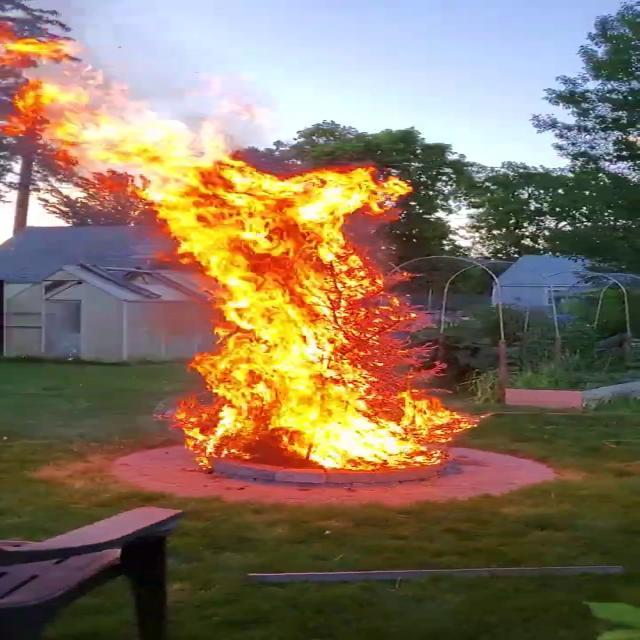Fire: (130, 76, 468, 472)
